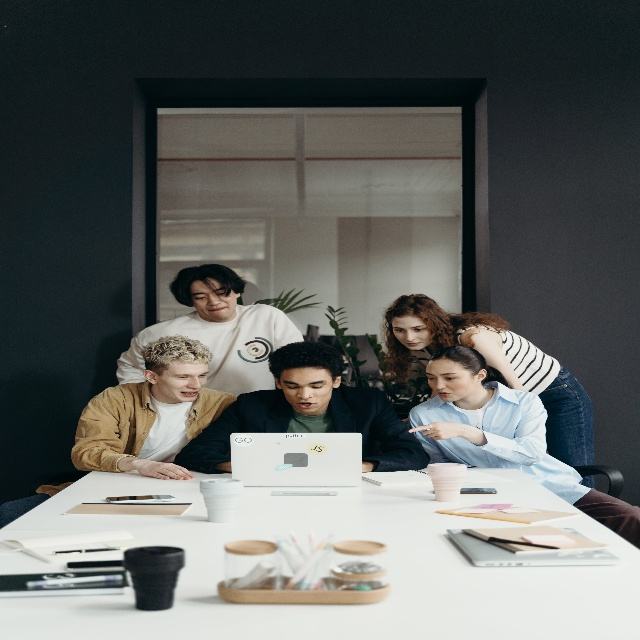Sin_guantes: (138, 457, 193, 483), (407, 418, 467, 440)
